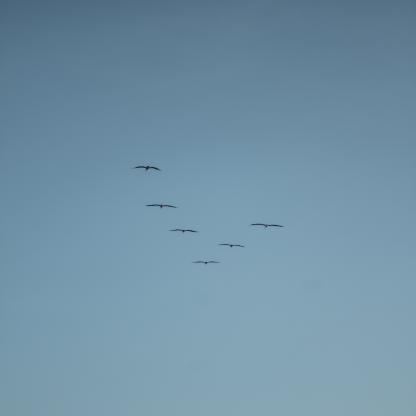bird: (249, 224, 285, 230), (132, 165, 162, 172), (146, 204, 178, 210), (168, 228, 199, 234), (192, 260, 221, 266), (217, 244, 245, 248)
